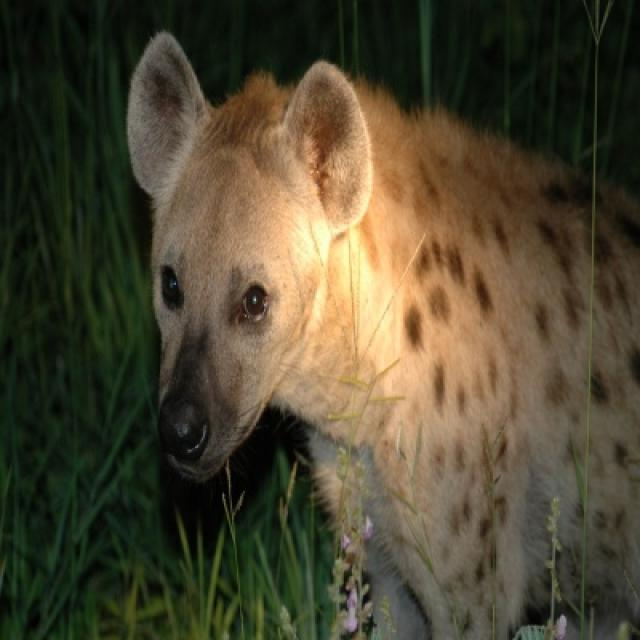hyena: (125, 30, 638, 638)
